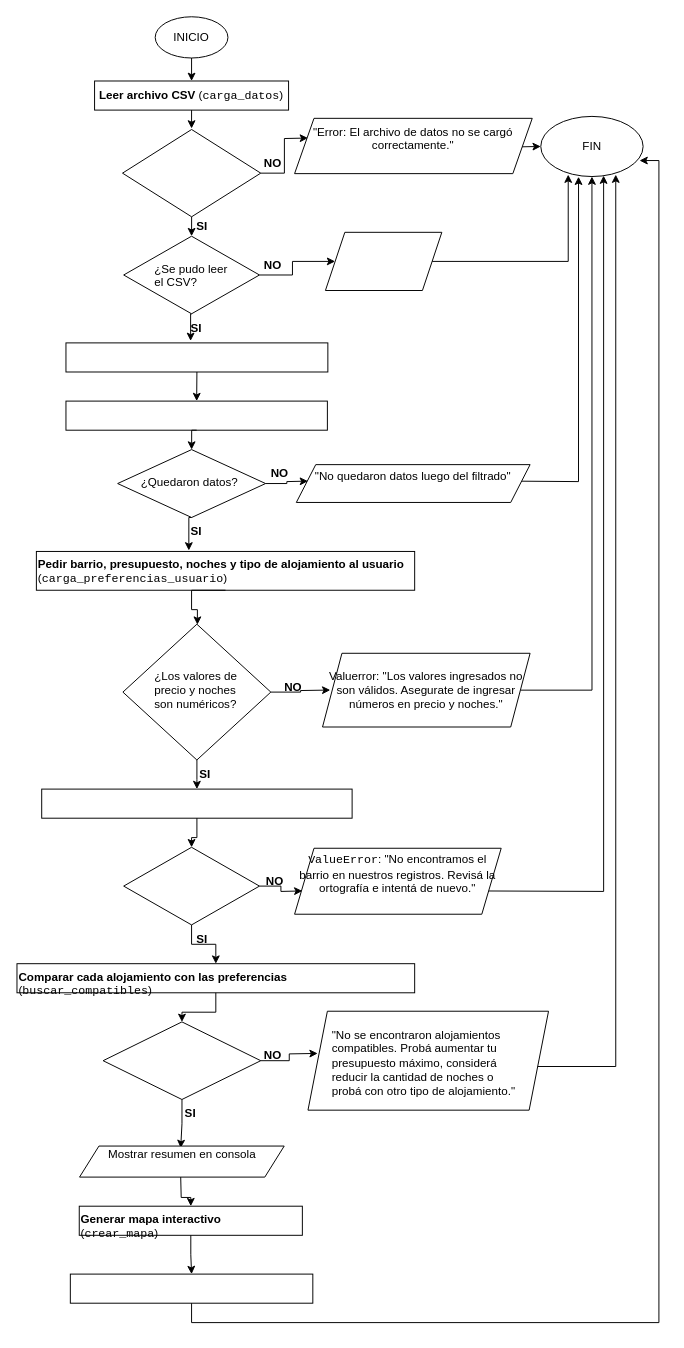
The diagram is 684 pixels wide and 1348 high, and some of its shapes have lost their labels. The shapes that lost their labels are listed below. From the top down, each one's centre as x and y in pixels, then its label:
(x=191, y=173): ¿El archivo existe en la ruta indicada?
(x=383, y=261): "Error al leer el archivo CSV."
(x=196, y=357): Limpiar columna de precios ( limpiar_precio )
(x=196, y=415): Filtrar columnas relevantes ( filtrar_datos )
(x=196, y=803): Filtrar alojamientos por barrio ( filtrado_por_barrio )
(x=191, y=885): ¿Hay alojamientos en ese barrio?
(x=181, y=1060): ¿Hay alojamientos compatibles?
(x=191, y=1288): Generar tabla HTML ( crear_tabla_html )
